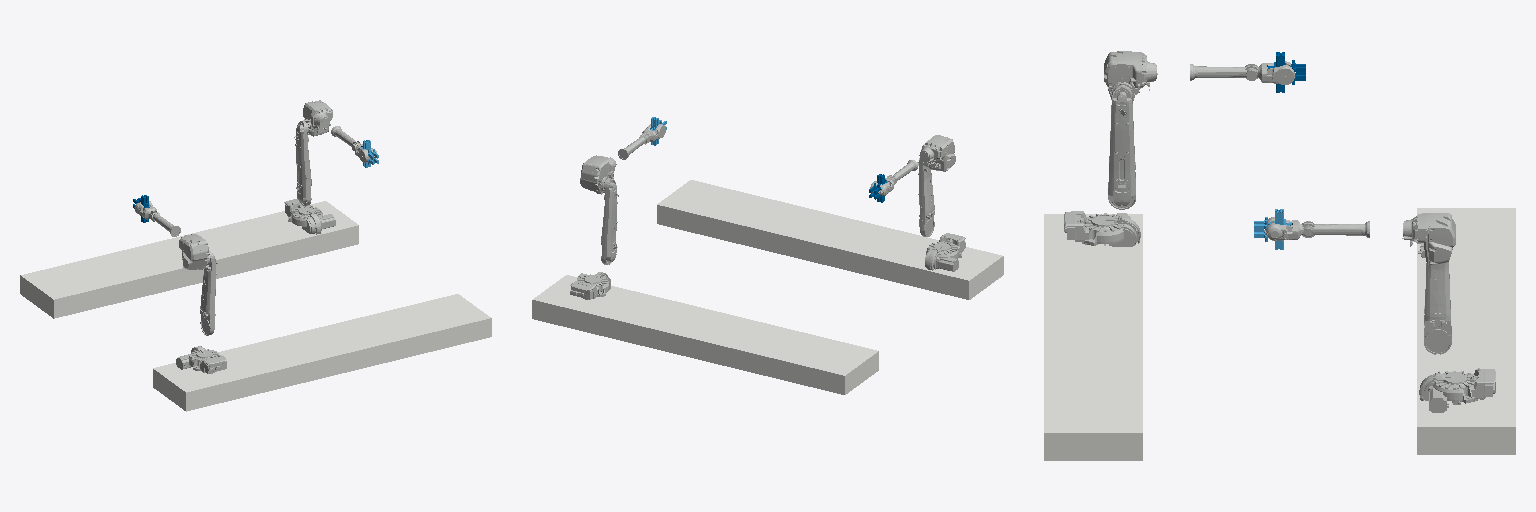
The robot description file, URDF, robot "princeton_2rob_cell":
<?xml version="1.0" ?>
<!-- =================================================================================== -->
<!-- |    This document was autogenerated by xacro from princeton_2rob_cell.xacro           | -->
<!-- |    EDITING THIS FILE BY HAND IS NOT RECOMMENDED                                 | -->
<!-- =================================================================================== -->
<robot name="princeton_2rob_cell">
  <link name="world"/>
  <joint name="r2_world_joint" type="fixed">
    <parent link="world"/>
    <child link="r2_axis"/>
    <origin rpy="0.0 0.0 0.0" xyz="0.0 0.0 0.0"/>
  </joint>
  <!-- Conversion were obtained from http://www.e-paint.co.uk/Lab_values.asp
       unless otherwise stated. -->
  <!-- Conversion were obtained from http://www.e-paint.co.uk/Lab_values.asp
       unless otherwise stated. -->
  <link name="r2_axis">
    <inertial>
      <origin xyz="0.0 0.0 0.0"/>
      <mass value="120"/>
      <inertia ixx="-4.98000" ixy="-0.00000" ixz="2.70000" iyy="-5.95200" iyz="-0.00000" izz="0.82800"/>
    </inertial>
    <visual>
      <geometry>
        <mesh filename="package://princeton_2rob_cell/meshes/visual/axis.stl"/>
      </geometry>
      <material name="">
        <color rgba="0.9254902 0.9254902 0.9058824 1"/>
      </material>
    </visual>
    <collision>
      <geometry>
        <mesh filename="package://princeton_2rob_cell/meshes/collision/axis.stl"/>
      </geometry>
    </collision>
  </link>
  <joint name="r2_cart_joint" type="prismatic">
    <parent link="r2_axis"/>
    <child link="r2_cart"/>
    <origin rpy="0 0 0 " xyz="0 0 0"/>
    <axis xyz="1 0 0"/>
    <limit effort="100000" lower="0" upper="3.9" velocity="2.618"/>
    <dynamics damping="0.2" friction="0"/>
  </joint>
  <link name="r2_cart">
    <inertial>
      <origin xyz="0.0 0.0 0.0"/>
      <mass value="120.00000"/>
      <inertia ixx="-4.98000" ixy="-0.00000" ixz="2.70000" iyy="-5.95200" iyz="-0.00000" izz="0.82800"/>
    </inertial>
    <visual>
      <geometry>
        <mesh filename="package://princeton_2rob_cell/meshes/visual/cart.stl"/>
      </geometry>
      <material name="">
        <color rgba="0.9254902 0.9254902 0.9058824 1"/>
      </material>
    </visual>
    <collision>
      <geometry>
        <mesh filename="package://princeton_2rob_cell/meshes/collision/cart.stl"/>
      </geometry>
    </collision>
  </link>
  <joint name="r2_abb_joint" type="fixed">
    <parent link="r2_cart"/>
    <child link="r2_base_link"/>
    <origin rpy="0 0 1.5707963267948966 " xyz="0 0 0 "/>
    <dynamics damping="0.2" friction="0"/>
  </joint>
  <!-- link list -->
  <link name="r2_base_link">
    <inertial>
      <origin xyz="0.0 0.0 0.0"/>
      <mass value="120.00000"/>
      <inertia ixx="-4.98000" ixy="-0.00000" ixz="2.70000" iyy="-5.95200" iyz="-0.00000" izz="0.82800"/>
    </inertial>
    <visual>
      <geometry>
        <mesh filename="package://abb_irb4600_40_255/meshes/visual/base_link.stl"/>
      </geometry>
      <material name="">
        <color rgba="0.7725490 0.7803922 0.7686275 1"/>
      </material>
    </visual>
    <collision>
      <geometry>
        <mesh filename="package://abb_irb4600_40_255/meshes/collision/base_link.stl"/>
      </geometry>
    </collision>
  </link>
  <link name="r2_link_1">
    <inertial>
      <origin xyz="0.18000 0.00000 0.50000"/>
      <mass value="120.00000"/>
      <inertia ixx="-4.98000" ixy="-0.00000" ixz="2.70000" iyy="-5.95200" iyz="-0.00000" izz="0.82800"/>
    </inertial>
    <visual>
      <geometry>
        <mesh filename="package://abb_irb4600_40_255/meshes/visual/link_1.stl"/>
      </geometry>
      <material name="">
        <color rgba="0.7725490 0.7803922 0.7686275 1"/>
      </material>
    </visual>
    <collision>
      <geometry>
        <mesh filename="package://abb_irb4600_40_255/meshes/collision/link_1.stl"/>
      </geometry>
    </collision>
  </link>
  <link name="r2_link_2">
    <inertial>
      <origin xyz="0.94000 0.08000 -0.34000"/>
      <mass value="120.00000"/>
      <inertia ixx="-2.96000" ixy="2.25600" ixz="-9.58800" iyy="-18.72601" iyz="-0.81600" izz="-14.95000"/>
    </inertial>
    <visual>
      <geometry>
        <mesh filename="package://abb_irb4600_40_255/meshes/visual/link_2.stl"/>
      </geometry>
      <material name="">
        <color rgba="0.7725490 0.7803922 0.7686275 1"/>
      </material>
    </visual>
    <collision>
      <geometry>
        <mesh filename="package://abb_irb4600_40_255/meshes/collision/link_2.stl"/>
      </geometry>
    </collision>
  </link>
  <link name="r2_link_3">
    <inertial>
      <origin xyz="0.07000 -0.26600 0.08800"/>
      <mass value="120.00000"/>
      <inertia ixx="1.34500" ixy="-0.55860" ixz="0.18480" iyy="4.65068" iyz="-0.70224" izz="2.76032"/>
    </inertial>
    <visual>
      <geometry>
        <mesh filename="package://abb_irb4600_40_255/meshes/visual/link_3.stl"/>
      </geometry>
      <material name="">
        <color rgba="0.7725490 0.7803922 0.7686275 1"/>
      </material>
    </visual>
    <collision>
      <geometry>
        <mesh filename="package://abb_irb4600_40_255/meshes/collision/link_3.stl"/>
      </geometry>
    </collision>
  </link>
  <link name="r2_link_4">
    <inertial>
      <origin xyz="0.00000 0.00000 1.00000"/>
      <mass value="40.00000"/>
      <inertia ixx="-8.00000" ixy="-0.00000" ixz="-0.00000" iyy="-8.00000" iyz="-0.00000" izz="0.48200"/>
    </inertial>
    <visual>
      <geometry>
        <mesh filename="package://abb_irb4600_40_255/meshes/visual/link_4.stl"/>
      </geometry>
      <material name="">
        <color rgba="0.7725490 0.7803922 0.7686275 1"/>
      </material>
    </visual>
    <collision>
      <geometry>
        <mesh filename="package://abb_irb4600_40_255/meshes/collision/link_4.stl"/>
      </geometry>
    </collision>
  </link>
  <link name="r2_link_5">
    <inertial>
      <origin xyz="0.14000 0.00000 0.00000"/>
      <mass value="10.00000"/>
      <inertia ixx="0.04000" ixy="-0.00000" ixz="-0.00000" iyy="-0.00900" iyz="-0.00000" izz="-0.00400"/>
    </inertial>
    <visual>
      <geometry>
        <mesh filename="package://abb_irb4600_40_255/meshes/visual/link_5.stl"/>
      </geometry>
      <material name="">
        <color rgba="0.7725490 0.7803922 0.7686275 1"/>
      </material>
    </visual>
    <collision>
      <geometry>
        <mesh filename="package://abb_irb4600_40_255/meshes/collision/link_5.stl"/>
      </geometry>
    </collision>
  </link>
  <link name="r2_link_6">
    <inertial>
      <origin xyz="0.08100 -0.09100 0.33200"/>
      <mass value="5.00000"/>
      <inertia ixx="-0.29652" ixy="-0.03686" ixz="0.09396" iyy="-0.28792" iyz="-0.10556" izz="-0.04621"/>
    </inertial>
    <visual>
      <geometry>
        <mesh filename="package://abb_irb4600_40_255/meshes/visual/link_6.stl"/>
      </geometry>
      <material name="">
        <color rgba="0.1882353 0.1960784 0.2039216 1"/>
      </material>
    </visual>
    <collision>
      <geometry>
        <mesh filename="package://abb_irb4600_40_255/meshes/collision/link_6.stl"/>
      </geometry>
    </collision>
  </link>
  <link name="r2_tool0"/>
  <!-- end of link list -->
  <!-- joint list -->
  <joint name="r2_joint_1" type="revolute">
    <parent link="r2_base_link"/>
    <child link="r2_link_1"/>
    <origin rpy="0 0 0 " xyz="0 0 0"/>
    <axis xyz="0 0 1"/>
    <limit effort="100000" lower="-3.14159" upper="3.14159" velocity="2.618"/>
    <dynamics damping="0.2" friction="0"/>
  </joint>
  <joint name="r2_joint_2" type="revolute">
    <parent link="r2_link_1"/>
    <child link="r2_link_2"/>
    <origin rpy="0 -0 0 " xyz="0.175 0 0.495"/>
    <axis xyz="0 1 0"/>
    <limit effort="100000" lower="-1.5708" upper="2.61799" velocity="2.618"/>
    <dynamics damping="0.2" friction="0"/>
  </joint>
  <joint name="r2_joint_3" type="revolute">
    <parent link="r2_link_2"/>
    <child link="r2_link_3"/>
    <origin rpy="0 -0 0 " xyz="0 0 1.095"/>
    <axis xyz="0 1 0"/>
    <limit effort="100000" lower="-3.14159" upper="1.309" velocity="2.618"/>
    <dynamics damping="0.2" friction="0"/>
  </joint>
  <joint name="r2_joint_4" type="revolute">
    <parent link="r2_link_3"/>
    <child link="r2_link_4"/>
    <origin rpy="0 -0 0 " xyz="0.332 0 0.175"/>
    <axis xyz="1 0 0"/>
    <limit effort="10000" lower="-6.98132" upper="6.98132" velocity="6.2832"/>
    <dynamics damping="0.2" friction="0"/>
  </joint>
  <joint name="r2_joint_5" type="revolute">
    <parent link="r2_link_4"/>
    <child link="r2_link_5"/>
    <origin rpy="0 -0 0 " xyz="0.939 0 0"/>
    <axis xyz="0 1 0"/>
    <limit effort="100000" lower="-2.18166" upper="2.0944" velocity="6.2832"/>
    <dynamics damping="0.2" friction="0"/>
  </joint>
  <joint name="r2_joint_6" type="revolute">
    <parent link="r2_link_5"/>
    <child link="r2_link_6"/>
    <origin rpy="0 1.57076 0 " xyz="0.135 0 0"/>
    <axis xyz="0 0 1"/>
    <limit effort="100000" lower="-6.98132" upper="6.98132" velocity="7.854"/>
    <dynamics damping="0.2" friction="0"/>
  </joint>
  <joint name="r2_joint_6-tool0" type="fixed">
    <parent link="r2_link_6"/>
    <child link="r2_tool0"/>
    <origin rpy="0 0 0" xyz="0 0 0"/>
  </joint>
  <!-- end of joint list -->
  <!-- ROS base_link to ABB World Coordinates transform -->
  <link name="r2_base"/>
  <joint name="r2_base_link-base" type="fixed">
    <origin rpy="0 0 0" xyz="0 0 0"/>
    <parent link="r2_base_link"/>
    <child link="r2_base"/>
  </joint>
  <!-- Create a fixed joint with a parameterized name. -->
  <joint name="r2_gripper_joint" type="fixed">
    <!-- The parent link must be read from the robot model it is attached to. -->
    <parent link="r2_tool0"/>
    <child link="r2_gripper"/>
    <!-- The tool is directly attached to the flange. -->
    <origin rpy="0 0 0" xyz="0 0 0"/>
  </joint>
  <link name="r2_gripper">
    <visual>
      <geometry>
        <!-- The path to the visual meshes in the package. -->
        <mesh filename="package://princeton_2rob_cell/meshes/visual/gripper.stl"/>
      </geometry>
    </visual>
    <collision>
      <geometry>
        <!-- The path to the collision meshes in the package. -->
        <mesh filename="package://princeton_2rob_cell/meshes/collision/gripper.stl"/>
      </geometry>
    </collision>
  </link>
  <!-- TCP frame -->
  <joint name="r2_tcp_joint" type="fixed">
    <origin rpy="0 0 0" xyz="0 0 0.352"/>
    <parent link="r2_gripper"/>
    <child link="r2_tcp"/>
  </joint>
  <link name="r2_tcp"/>
  <joint name="r1_world_joint" type="fixed">
    <parent link="world"/>
    <child link="r1_axis"/>
    <origin rpy="0.0 0.0 3.14159" xyz="3.70 3.45 0.02"/>
  </joint>
  <!-- Conversion were obtained from http://www.e-paint.co.uk/Lab_values.asp
       unless otherwise stated. -->
  <!-- Conversion were obtained from http://www.e-paint.co.uk/Lab_values.asp
       unless otherwise stated. -->
  <link name="r1_axis">
    <inertial>
      <origin xyz="0.0 0.0 0.0"/>
      <mass value="120"/>
      <inertia ixx="-4.98000" ixy="-0.00000" ixz="2.70000" iyy="-5.95200" iyz="-0.00000" izz="0.82800"/>
    </inertial>
    <visual>
      <geometry>
        <mesh filename="package://princeton_2rob_cell/meshes/visual/axis.stl"/>
      </geometry>
      <material name="">
        <color rgba="0.9254902 0.9254902 0.9058824 1"/>
      </material>
    </visual>
    <collision>
      <geometry>
        <mesh filename="package://princeton_2rob_cell/meshes/collision/axis.stl"/>
      </geometry>
    </collision>
  </link>
  <joint name="r1_cart_joint" type="prismatic">
    <parent link="r1_axis"/>
    <child link="r1_cart"/>
    <origin rpy="0 0 0 " xyz="0 0 0"/>
    <axis xyz="1 0 0"/>
    <limit effort="100000" lower="0" upper="3.9" velocity="2.618"/>
    <dynamics damping="0.2" friction="0"/>
  </joint>
  <link name="r1_cart">
    <inertial>
      <origin xyz="0.0 0.0 0.0"/>
      <mass value="120.00000"/>
      <inertia ixx="-4.98000" ixy="-0.00000" ixz="2.70000" iyy="-5.95200" iyz="-0.00000" izz="0.82800"/>
    </inertial>
    <visual>
      <geometry>
        <mesh filename="package://princeton_2rob_cell/meshes/visual/cart.stl"/>
      </geometry>
      <material name="">
        <color rgba="0.9254902 0.9254902 0.9058824 1"/>
      </material>
    </visual>
    <collision>
      <geometry>
        <mesh filename="package://princeton_2rob_cell/meshes/collision/cart.stl"/>
      </geometry>
    </collision>
  </link>
  <joint name="r1_abb_joint" type="fixed">
    <parent link="r1_cart"/>
    <child link="r1_base_link"/>
    <origin rpy="0 0 1.5707963267948966 " xyz="0 0 0 "/>
    <dynamics damping="0.2" friction="0"/>
  </joint>
  <!-- link list -->
  <link name="r1_base_link">
    <inertial>
      <origin xyz="0.0 0.0 0.0"/>
      <mass value="120.00000"/>
      <inertia ixx="-4.98000" ixy="-0.00000" ixz="2.70000" iyy="-5.95200" iyz="-0.00000" izz="0.82800"/>
    </inertial>
    <visual>
      <geometry>
        <mesh filename="package://abb_irb4600_40_255/meshes/visual/base_link.stl"/>
      </geometry>
      <material name="">
        <color rgba="0.7725490 0.7803922 0.7686275 1"/>
      </material>
    </visual>
    <collision>
      <geometry>
        <mesh filename="package://abb_irb4600_40_255/meshes/collision/base_link.stl"/>
      </geometry>
    </collision>
  </link>
  <link name="r1_link_1">
    <inertial>
      <origin xyz="0.18000 0.00000 0.50000"/>
      <mass value="120.00000"/>
      <inertia ixx="-4.98000" ixy="-0.00000" ixz="2.70000" iyy="-5.95200" iyz="-0.00000" izz="0.82800"/>
    </inertial>
    <visual>
      <geometry>
        <mesh filename="package://abb_irb4600_40_255/meshes/visual/link_1.stl"/>
      </geometry>
      <material name="">
        <color rgba="0.7725490 0.7803922 0.7686275 1"/>
      </material>
    </visual>
    <collision>
      <geometry>
        <mesh filename="package://abb_irb4600_40_255/meshes/collision/link_1.stl"/>
      </geometry>
    </collision>
  </link>
  <link name="r1_link_2">
    <inertial>
      <origin xyz="0.94000 0.08000 -0.34000"/>
      <mass value="120.00000"/>
      <inertia ixx="-2.96000" ixy="2.25600" ixz="-9.58800" iyy="-18.72601" iyz="-0.81600" izz="-14.95000"/>
    </inertial>
    <visual>
      <geometry>
        <mesh filename="package://abb_irb4600_40_255/meshes/visual/link_2.stl"/>
      </geometry>
      <material name="">
        <color rgba="0.7725490 0.7803922 0.7686275 1"/>
      </material>
    </visual>
    <collision>
      <geometry>
        <mesh filename="package://abb_irb4600_40_255/meshes/collision/link_2.stl"/>
      </geometry>
    </collision>
  </link>
  <link name="r1_link_3">
    <inertial>
      <origin xyz="0.07000 -0.26600 0.08800"/>
      <mass value="120.00000"/>
      <inertia ixx="1.34500" ixy="-0.55860" ixz="0.18480" iyy="4.65068" iyz="-0.70224" izz="2.76032"/>
    </inertial>
    <visual>
      <geometry>
        <mesh filename="package://abb_irb4600_40_255/meshes/visual/link_3.stl"/>
      </geometry>
      <material name="">
        <color rgba="0.7725490 0.7803922 0.7686275 1"/>
      </material>
    </visual>
    <collision>
      <geometry>
        <mesh filename="package://abb_irb4600_40_255/meshes/collision/link_3.stl"/>
      </geometry>
    </collision>
  </link>
  <link name="r1_link_4">
    <inertial>
      <origin xyz="0.00000 0.00000 1.00000"/>
      <mass value="40.00000"/>
      <inertia ixx="-8.00000" ixy="-0.00000" ixz="-0.00000" iyy="-8.00000" iyz="-0.00000" izz="0.48200"/>
    </inertial>
    <visual>
      <geometry>
        <mesh filename="package://abb_irb4600_40_255/meshes/visual/link_4.stl"/>
      </geometry>
      <material name="">
        <color rgba="0.7725490 0.7803922 0.7686275 1"/>
      </material>
    </visual>
    <collision>
      <geometry>
        <mesh filename="package://abb_irb4600_40_255/meshes/collision/link_4.stl"/>
      </geometry>
    </collision>
  </link>
  <link name="r1_link_5">
    <inertial>
      <origin xyz="0.14000 0.00000 0.00000"/>
      <mass value="10.00000"/>
      <inertia ixx="0.04000" ixy="-0.00000" ixz="-0.00000" iyy="-0.00900" iyz="-0.00000" izz="-0.00400"/>
    </inertial>
    <visual>
      <geometry>
        <mesh filename="package://abb_irb4600_40_255/meshes/visual/link_5.stl"/>
      </geometry>
      <material name="">
        <color rgba="0.7725490 0.7803922 0.7686275 1"/>
      </material>
    </visual>
    <collision>
      <geometry>
        <mesh filename="package://abb_irb4600_40_255/meshes/collision/link_5.stl"/>
      </geometry>
    </collision>
  </link>
  <link name="r1_link_6">
    <inertial>
      <origin xyz="0.08100 -0.09100 0.33200"/>
      <mass value="5.00000"/>
      <inertia ixx="-0.29652" ixy="-0.03686" ixz="0.09396" iyy="-0.28792" iyz="-0.10556" izz="-0.04621"/>
    </inertial>
    <visual>
      <geometry>
        <mesh filename="package://abb_irb4600_40_255/meshes/visual/link_6.stl"/>
      </geometry>
      <material name="">
        <color rgba="0.1882353 0.1960784 0.2039216 1"/>
      </material>
    </visual>
    <collision>
      <geometry>
        <mesh filename="package://abb_irb4600_40_255/meshes/collision/link_6.stl"/>
      </geometry>
    </collision>
  </link>
  <link name="r1_tool0"/>
  <!-- end of link list -->
  <!-- joint list -->
  <joint name="r1_joint_1" type="revolute">
    <parent link="r1_base_link"/>
    <child link="r1_link_1"/>
    <origin rpy="0 0 0 " xyz="0 0 0"/>
    <axis xyz="0 0 1"/>
    <limit effort="100000" lower="-3.14159" upper="3.14159" velocity="2.618"/>
    <dynamics damping="0.2" friction="0"/>
  </joint>
  <joint name="r1_joint_2" type="revolute">
    <parent link="r1_link_1"/>
    <child link="r1_link_2"/>
    <origin rpy="0 -0 0 " xyz="0.175 0 0.495"/>
    <axis xyz="0 1 0"/>
    <limit effort="100000" lower="-1.5708" upper="2.61799" velocity="2.618"/>
    <dynamics damping="0.2" friction="0"/>
  </joint>
  <joint name="r1_joint_3" type="revolute">
    <parent link="r1_link_2"/>
    <child link="r1_link_3"/>
    <origin rpy="0 -0 0 " xyz="0 0 1.095"/>
    <axis xyz="0 1 0"/>
    <limit effort="100000" lower="-3.14159" upper="1.309" velocity="2.618"/>
    <dynamics damping="0.2" friction="0"/>
  </joint>
  <joint name="r1_joint_4" type="revolute">
    <parent link="r1_link_3"/>
    <child link="r1_link_4"/>
    <origin rpy="0 -0 0 " xyz="0.332 0 0.175"/>
    <axis xyz="1 0 0"/>
    <limit effort="10000" lower="-6.98132" upper="6.98132" velocity="6.2832"/>
    <dynamics damping="0.2" friction="0"/>
  </joint>
  <joint name="r1_joint_5" type="revolute">
    <parent link="r1_link_4"/>
    <child link="r1_link_5"/>
    <origin rpy="0 -0 0 " xyz="0.939 0 0"/>
    <axis xyz="0 1 0"/>
    <limit effort="100000" lower="-2.18166" upper="2.0944" velocity="6.2832"/>
    <dynamics damping="0.2" friction="0"/>
  </joint>
  <joint name="r1_joint_6" type="revolute">
    <parent link="r1_link_5"/>
    <child link="r1_link_6"/>
    <origin rpy="0 1.57076 0 " xyz="0.135 0 0"/>
    <axis xyz="0 0 1"/>
    <limit effort="100000" lower="-6.98132" upper="6.98132" velocity="7.854"/>
    <dynamics damping="0.2" friction="0"/>
  </joint>
  <joint name="r1_joint_6-tool0" type="fixed">
    <parent link="r1_link_6"/>
    <child link="r1_tool0"/>
    <origin rpy="0 0 0" xyz="0 0 0"/>
  </joint>
  <!-- end of joint list -->
  <!-- ROS base_link to ABB World Coordinates transform -->
  <link name="r1_base"/>
  <joint name="r1_base_link-base" type="fixed">
    <origin rpy="0 0 0" xyz="0 0 0"/>
    <parent link="r1_base_link"/>
    <child link="r1_base"/>
  </joint>
  <!-- Create a fixed joint with a parameterized name. -->
  <joint name="r1_gripper_joint" type="fixed">
    <!-- The parent link must be read from the robot model it is attached to. -->
    <parent link="r1_tool0"/>
    <child link="r1_gripper"/>
    <!-- The tool is directly attached to the flange. -->
    <origin rpy="0 0 0" xyz="0 0 0"/>
  </joint>
  <link name="r1_gripper">
    <visual>
      <geometry>
        <!-- The path to the visual meshes in the package. -->
        <mesh filename="package://princeton_2rob_cell/meshes/visual/gripper.stl"/>
      </geometry>
    </visual>
    <collision>
      <geometry>
        <!-- The path to the collision meshes in the package. -->
        <mesh filename="package://princeton_2rob_cell/meshes/collision/gripper.stl"/>
      </geometry>
    </collision>
  </link>
  <!-- TCP frame -->
  <joint name="r1_tcp_joint" type="fixed">
    <origin rpy="0 0 0" xyz="0 0 0.352"/>
    <parent link="r1_gripper"/>
    <child link="r1_tcp"/>
  </joint>
  <link name="r1_tcp"/>
</robot>

--- Render facts (derived) ---
Views: 3 orthographic renders of the robot side by side, from view 1: azimuth 30°, elevation 25°; view 2: azimuth 150°, elevation 25°; view 3: azimuth 270°, elevation 25°.
Robot: princeton_2rob_cell — 27 links, 26 joints (12 revolute, 2 prismatic, 12 fixed); root link world; default pose: every joint at zero.
Links seen in each view (by area): view 1: r2_axis, r1_axis, r1_link_2, r2_link_2, r2_link_3, r1_link_3, r2_base_link, r1_base_link; view 2: r1_axis, r2_axis, r1_link_2, r2_link_3, r2_link_2, r1_link_3, r1_base_link, r2_base_link; view 3: r2_axis, r1_axis, r2_link_2, r1_link_2, r1_link_3, r2_link_3, r2_base_link, r1_base_link, r2_link_4, r1_link_4, r1_link_1, r2_link_1.
Link boxes in pixels (x1,y1,x2,y2): r2_axis: (153, 294, 491, 411); r1_axis: (20, 201, 358, 318); r1_link_2: (294, 121, 311, 205); r2_link_2: (200, 251, 217, 335); r2_link_3: (179, 234, 209, 269); r1_link_3: (303, 100, 332, 136); r2_base_link: (189, 349, 226, 373); r1_base_link: (284, 199, 322, 226); r1_axis: (532, 275, 878, 394); r2_axis: (657, 180, 1003, 299); r1_link_2: (601, 178, 618, 264); r2_link_3: (919, 135, 955, 171); r2_link_2: (917, 158, 934, 236); r1_link_3: (580, 155, 616, 194); r1_base_link: (570, 274, 609, 299); r2_base_link: (926, 233, 965, 258); r2_axis: (1044, 214, 1142, 460); r1_axis: (1417, 208, 1515, 454); r2_link_2: (1108, 85, 1135, 209); r1_link_2: (1424, 262, 1451, 354); r1_link_3: (1402, 213, 1455, 264); r2_link_3: (1104, 51, 1157, 100); r2_base_link: (1064, 211, 1124, 245); r1_base_link: (1433, 368, 1495, 403); r2_link_4: (1190, 61, 1294, 84); r1_link_4: (1264, 217, 1369, 240); r1_link_1: (1419, 371, 1477, 412); r2_link_1: (1082, 213, 1140, 246).
Bounding box of the posed robot: 5.18 × 4.63 × 2.36 m (x, y, z).
18 mesh visuals loaded from 10 distinct referenced files (9 binary STL); not drawn: 2 (reference not matched to a file when rendering).